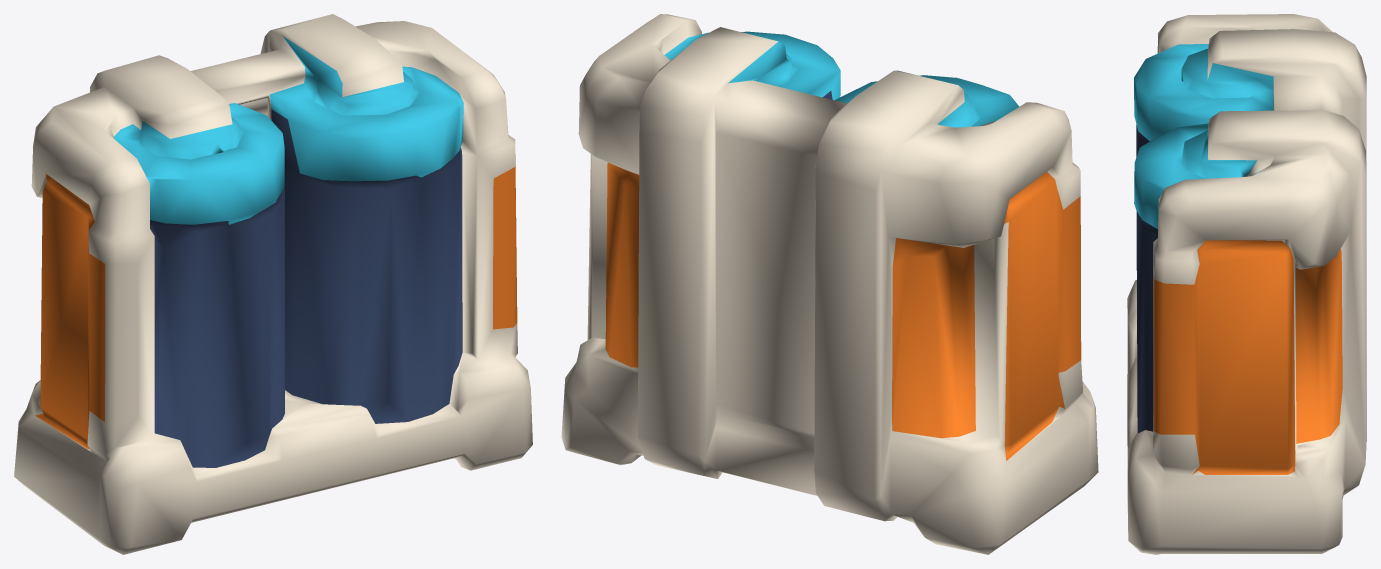
Rendered from navy-cyan-battery-stack_LOD1.glb.
The picture shows the model from 3 angles, left to right: view 1: azimuth 30°, elevation 25°; view 2: azimuth 150°, elevation 25°; view 3: azimuth 270°, elevation 25°; orthographic projection. The views are drawn at different scales.
Visible parts, largest first — view 1: navy-cyan-battery-stack_LOD1; view 2: navy-cyan-battery-stack_LOD1; view 3: navy-cyan-battery-stack_LOD1.
Boxes of the visible parts, <box> form: navy-cyan-battery-stack_LOD1: <box>14,14,532,554</box>; navy-cyan-battery-stack_LOD1: <box>561,14,1098,554</box>; navy-cyan-battery-stack_LOD1: <box>1127,14,1366,554</box>.
Size of the model in its own units: 1.34 by 1.2 by 0.6844.
1 material, 1 textured.
